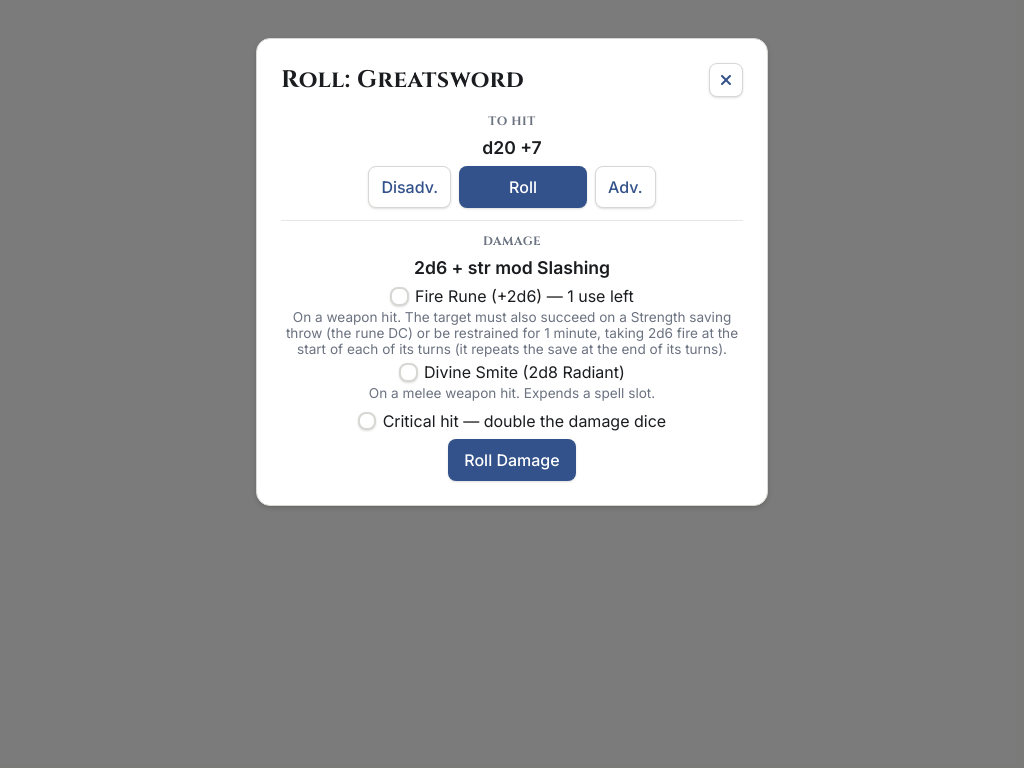
Test: RollModal — a pool-powered extra › rolls the rune's dice with the weapon's, and spends nothing until asked
This screenshot has width=1024, height=768.
Click the checkbox labelled "Fire Rune (+2d6) — 1 use left".
click(400, 296)  # box [390,287,409,306]
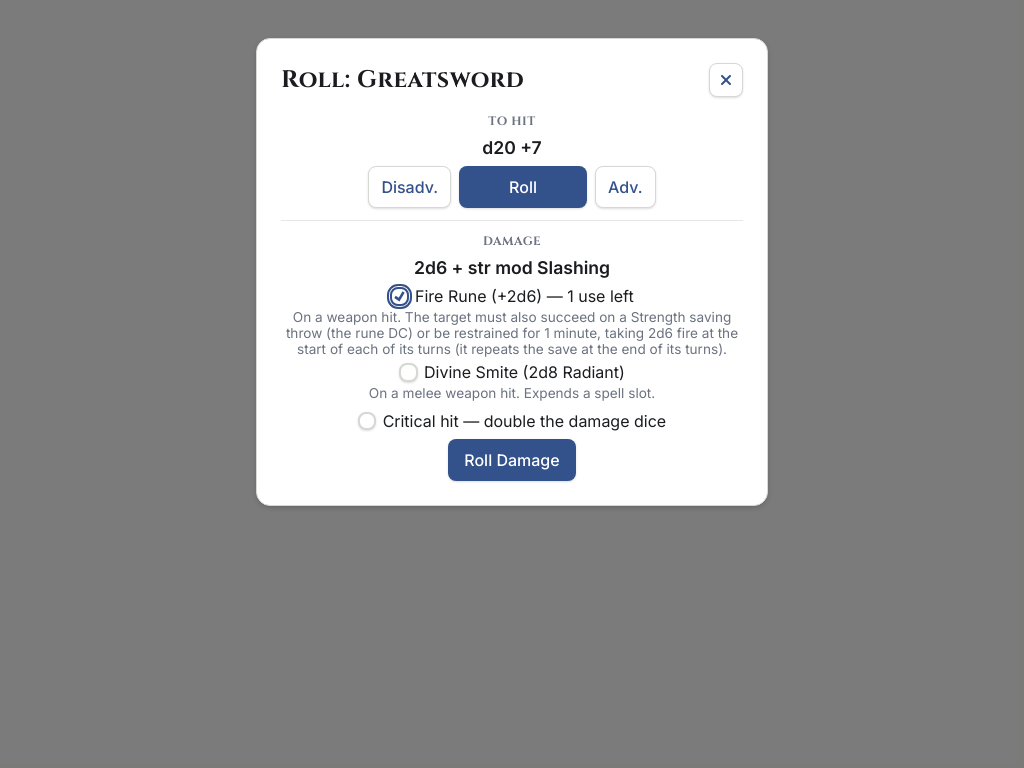
Click the button "Roll Damage".
click(512, 460)  # box [448,439,576,481]
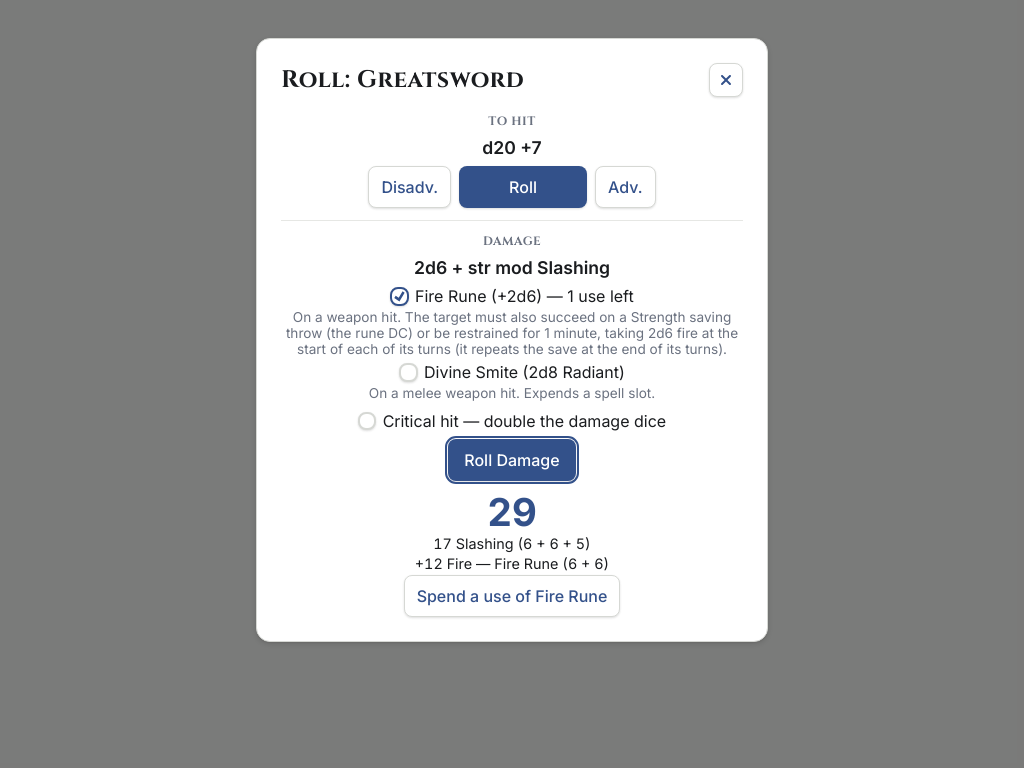
Result: the text "+12 Fire — Fire Rune (6 + 6)" is shown at [415,555,609,572]
Click the button "Spend a use of Fire Rune".
click(512, 596)  # box [404,575,620,617]
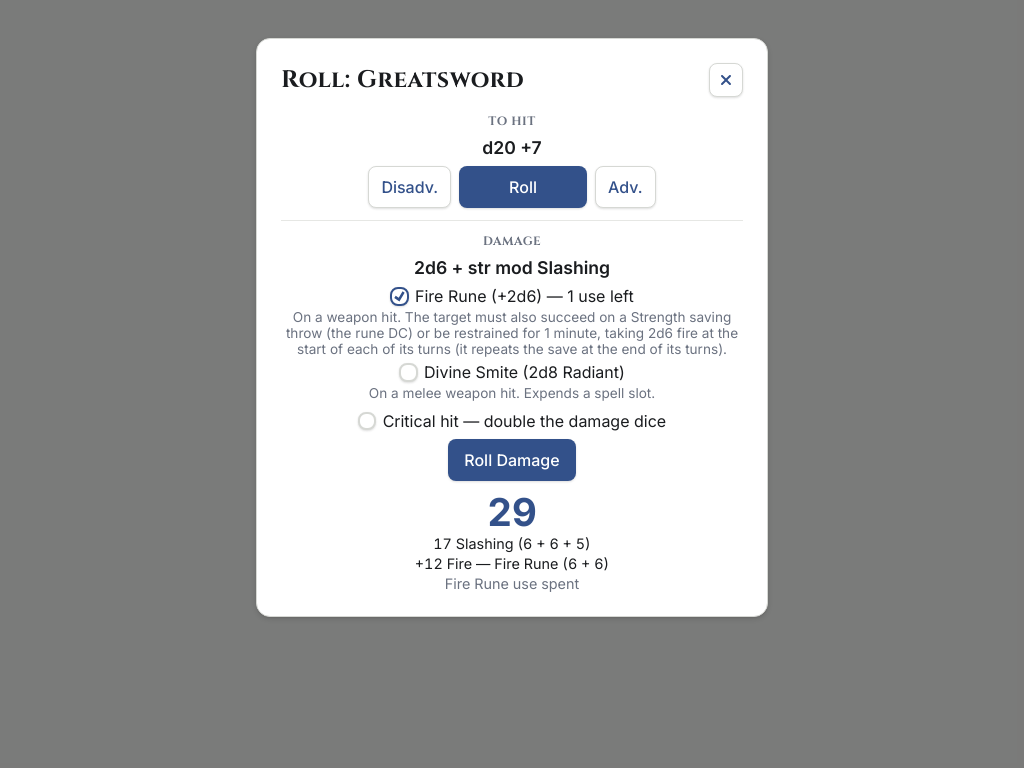
Result: the text "Fire Rune use spent" is shown at [445,575,579,592]
